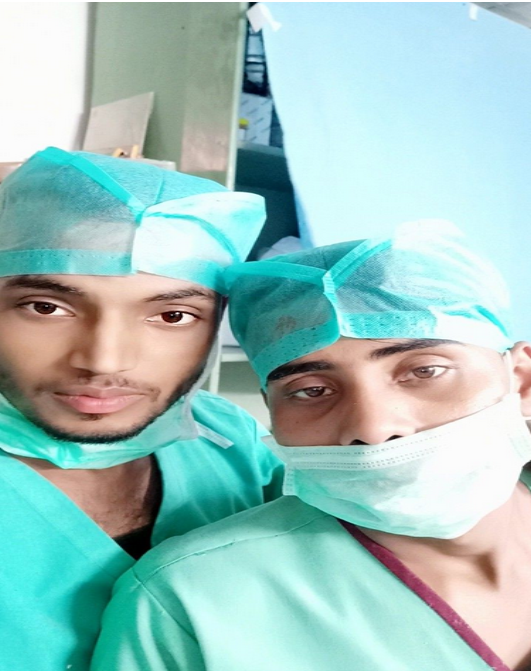mask_weared_incorrect: (225, 216, 531, 543)
